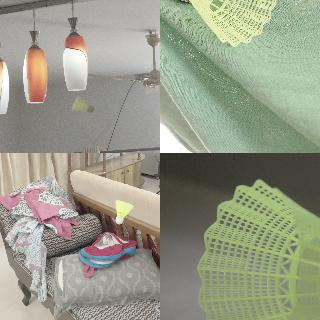shuttlecock: (197, 178, 319, 319), (166, 0, 278, 46), (115, 200, 133, 224), (71, 96, 93, 112)
